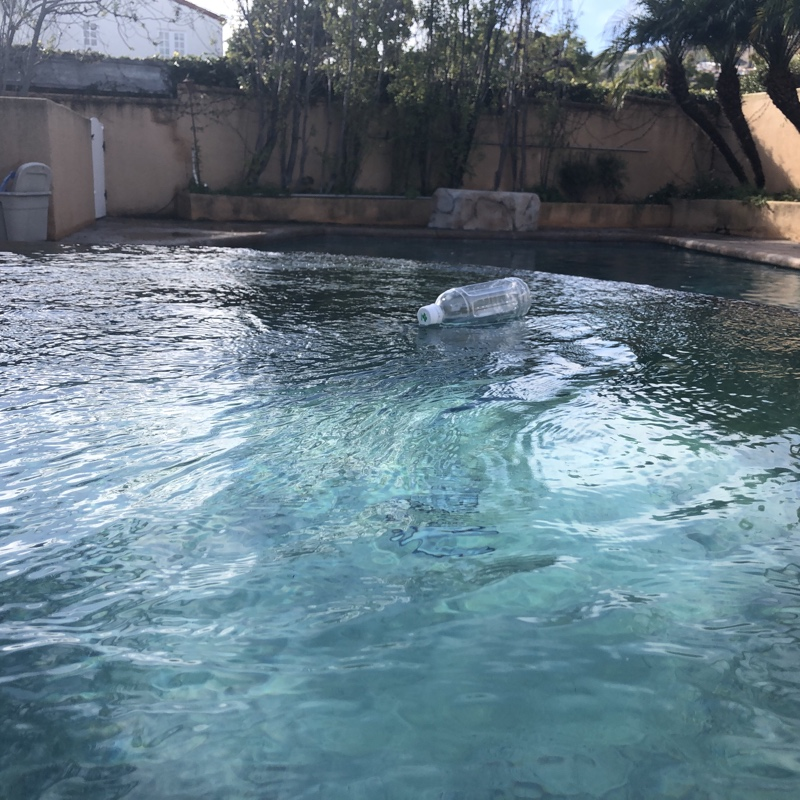Plastic Bottle: (416, 272, 534, 332)
